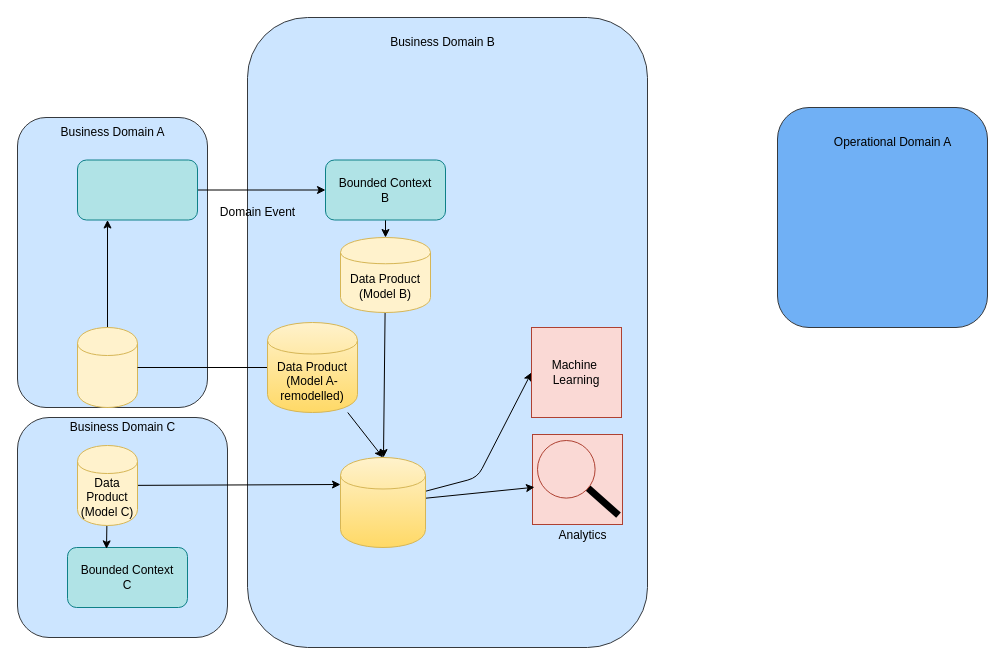
Image size: 1005x665. Some labels were removed from this diagram. Here are the shapes that lost their labels. From the top down, the box of each, then its label:
(76, 159, 198, 220): Bounded Context A
(76, 326, 138, 408): Data Product (Model A)
(340, 456, 426, 548): Data Product (Model A-B-C Aggregated)
